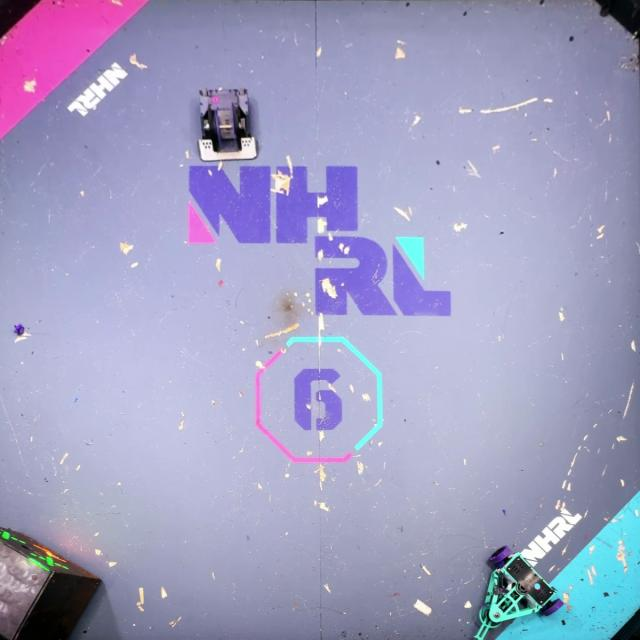housebot: (0, 522, 100, 640)
robot: (474, 542, 565, 640), (198, 86, 258, 162)
